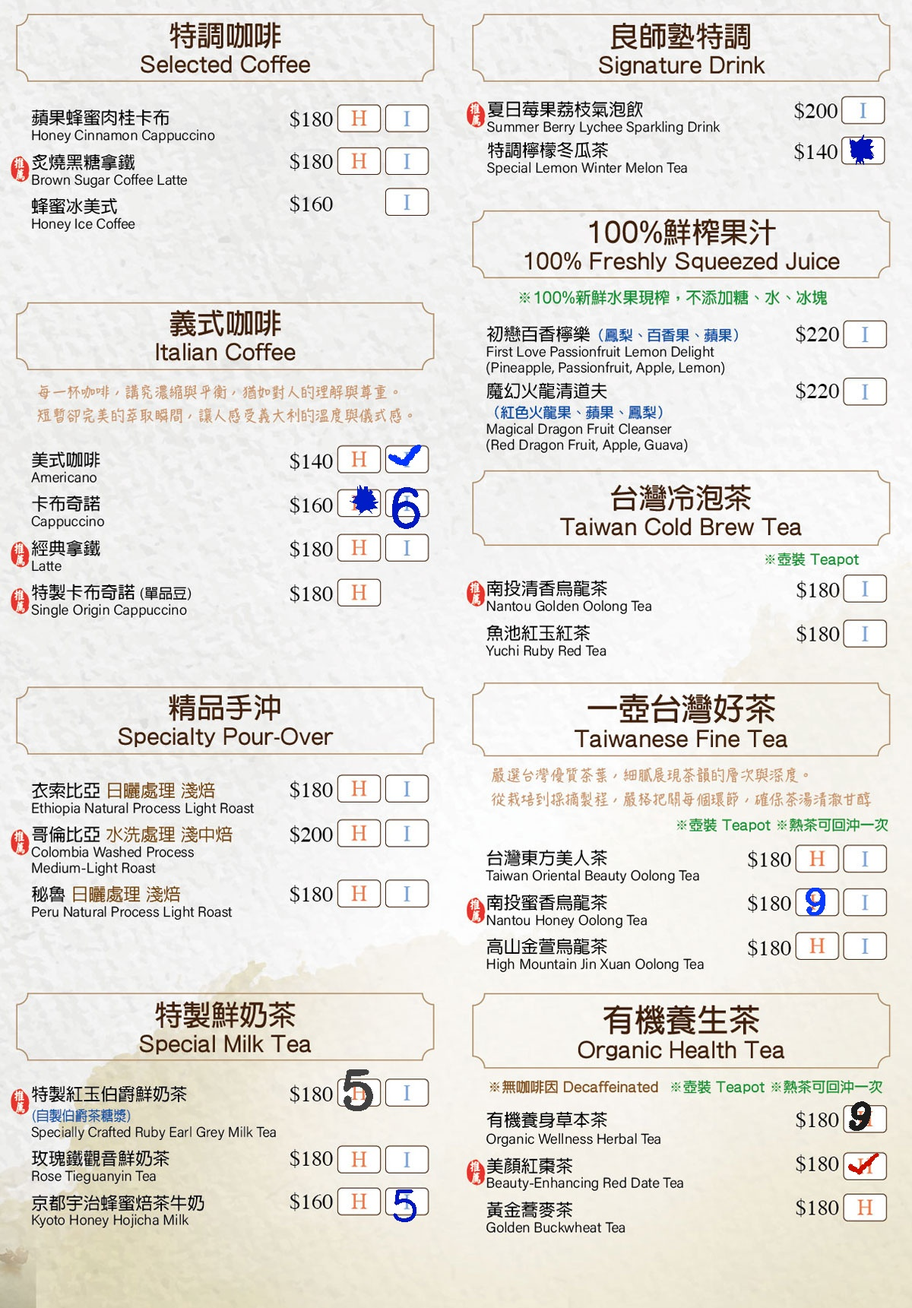marked_circle: (842, 138, 881, 162), (339, 489, 378, 513)
marked_number_5: (342, 1080, 381, 1104), (387, 1189, 426, 1212)
marked_number_6: (388, 491, 426, 515)
marked_number_9: (799, 892, 838, 915), (846, 1106, 885, 1129)
marked_tick: (846, 1153, 885, 1177), (388, 446, 426, 470)
